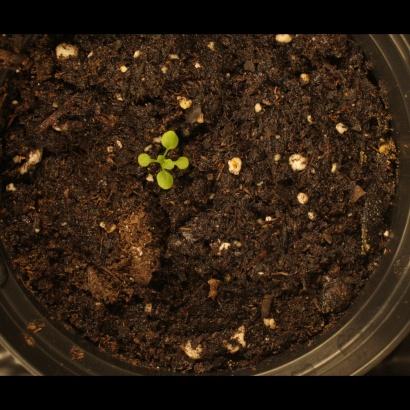leaf: (156, 155, 180, 178), (159, 128, 182, 151), (178, 152, 201, 175), (152, 172, 175, 195), (134, 148, 157, 171)
